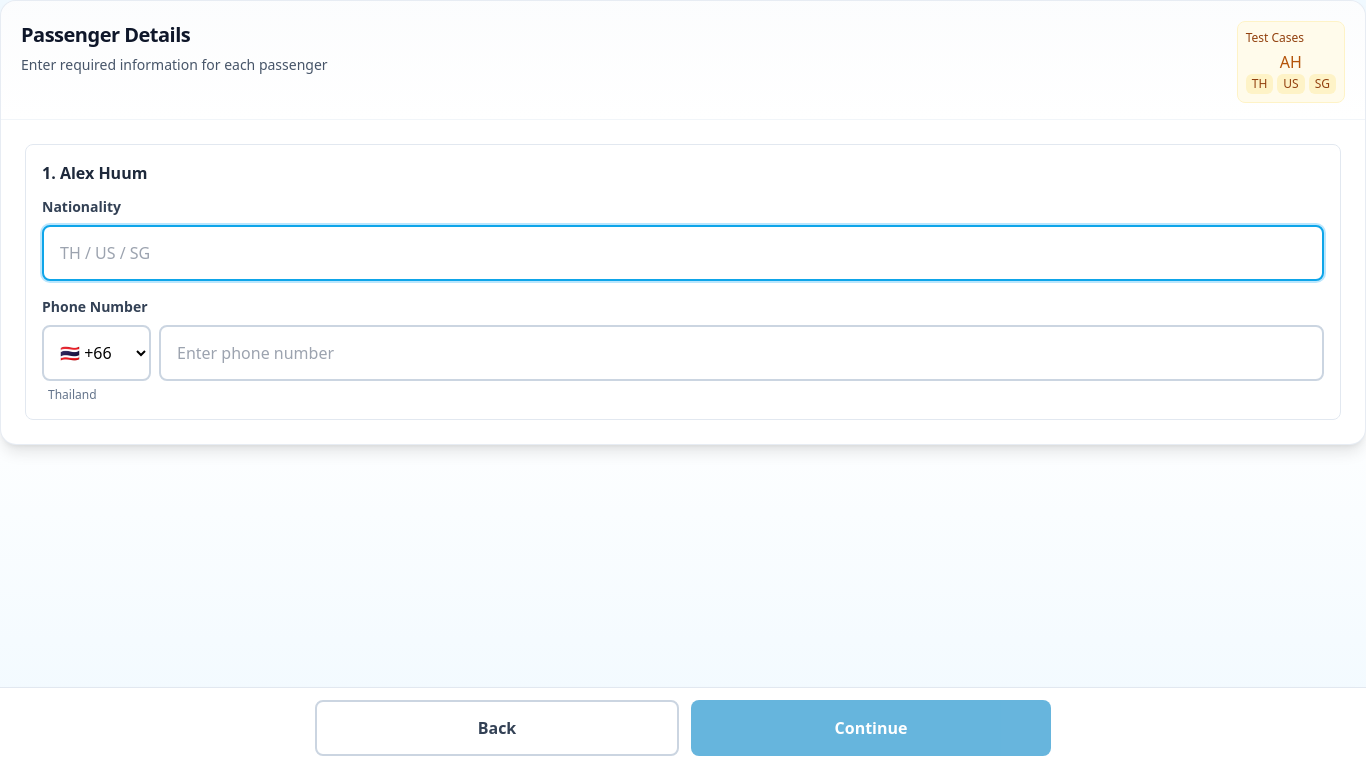
it: PassengerDetails › Nationality Validation › should show error when nationality is less than 2 characters
In the field with placeholder "TH / US / SG": point(683, 253) [42, 225, 1324, 281], type "A"
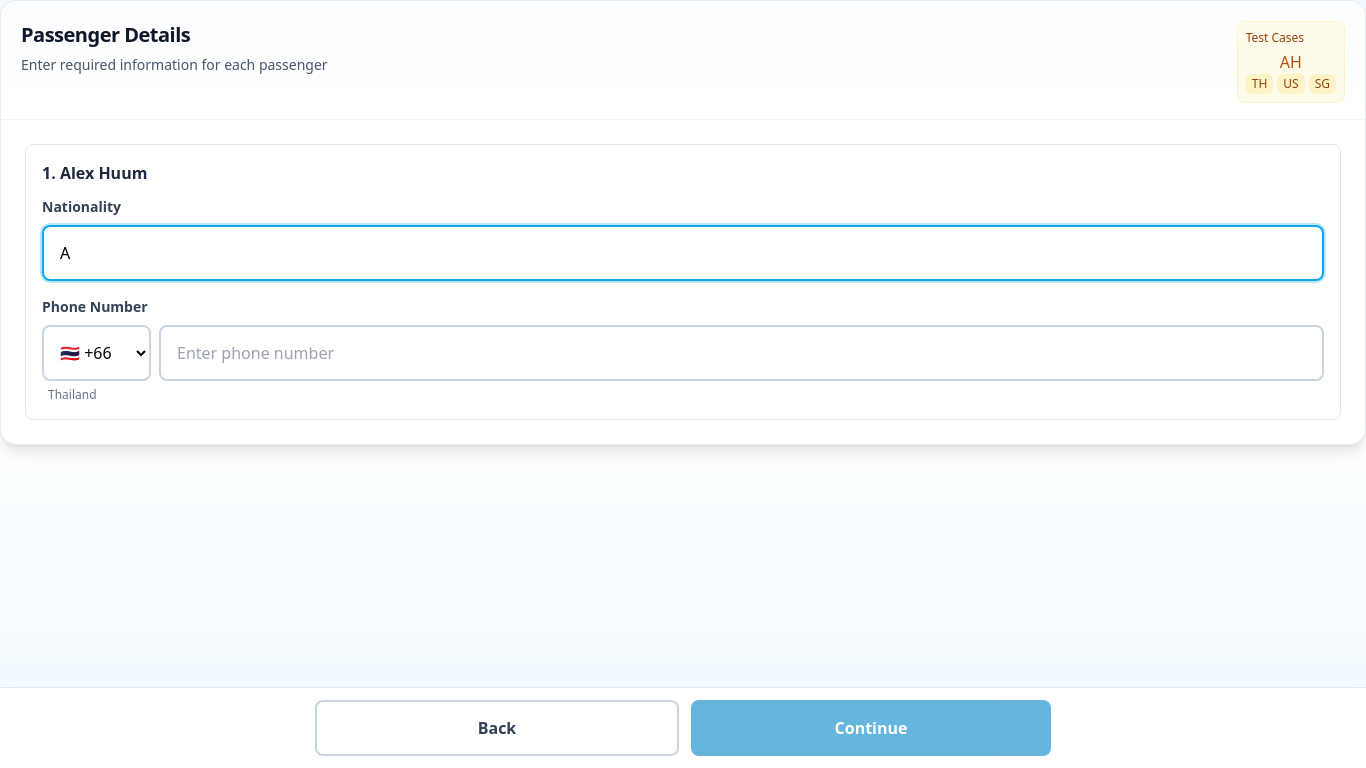
Press Tab
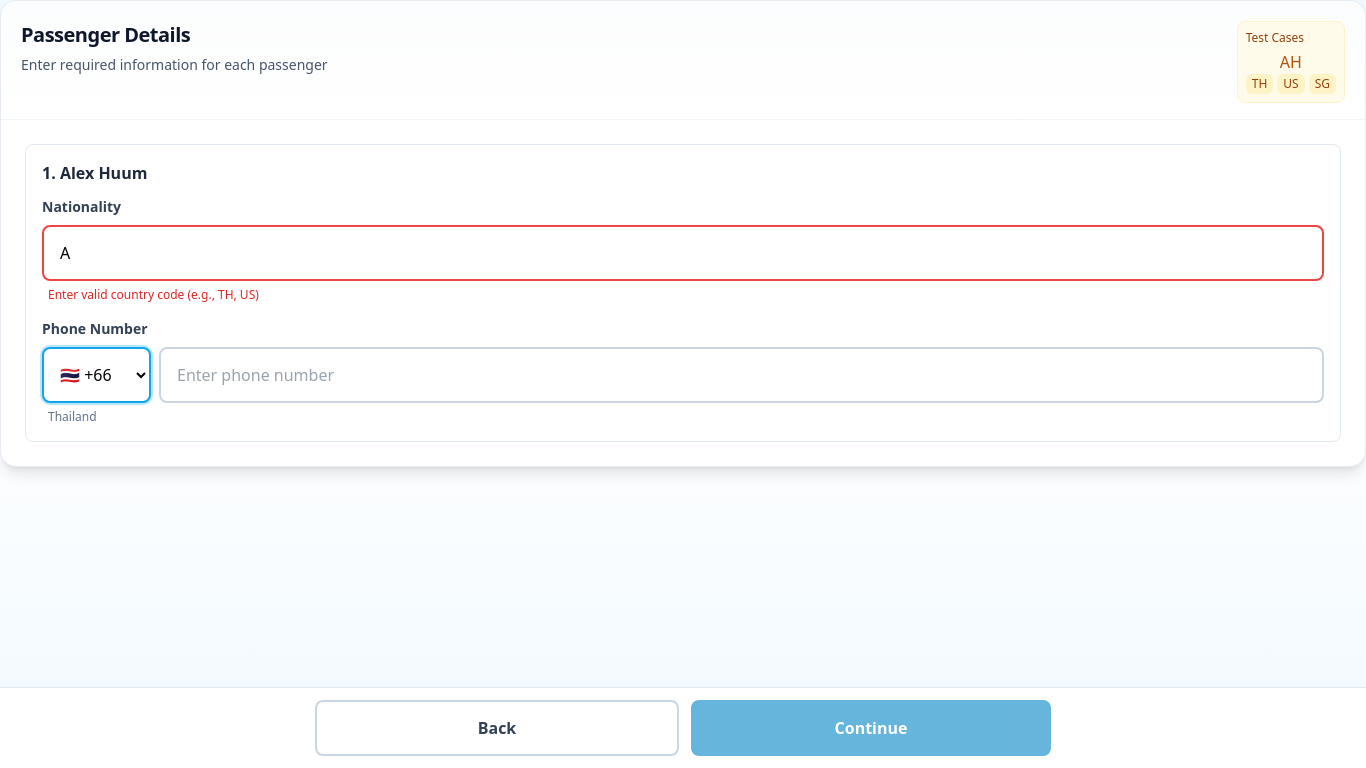
Expected: the text "Enter valid country code (e.g., TH, US)" is shown, [48, 286, 259, 303]
